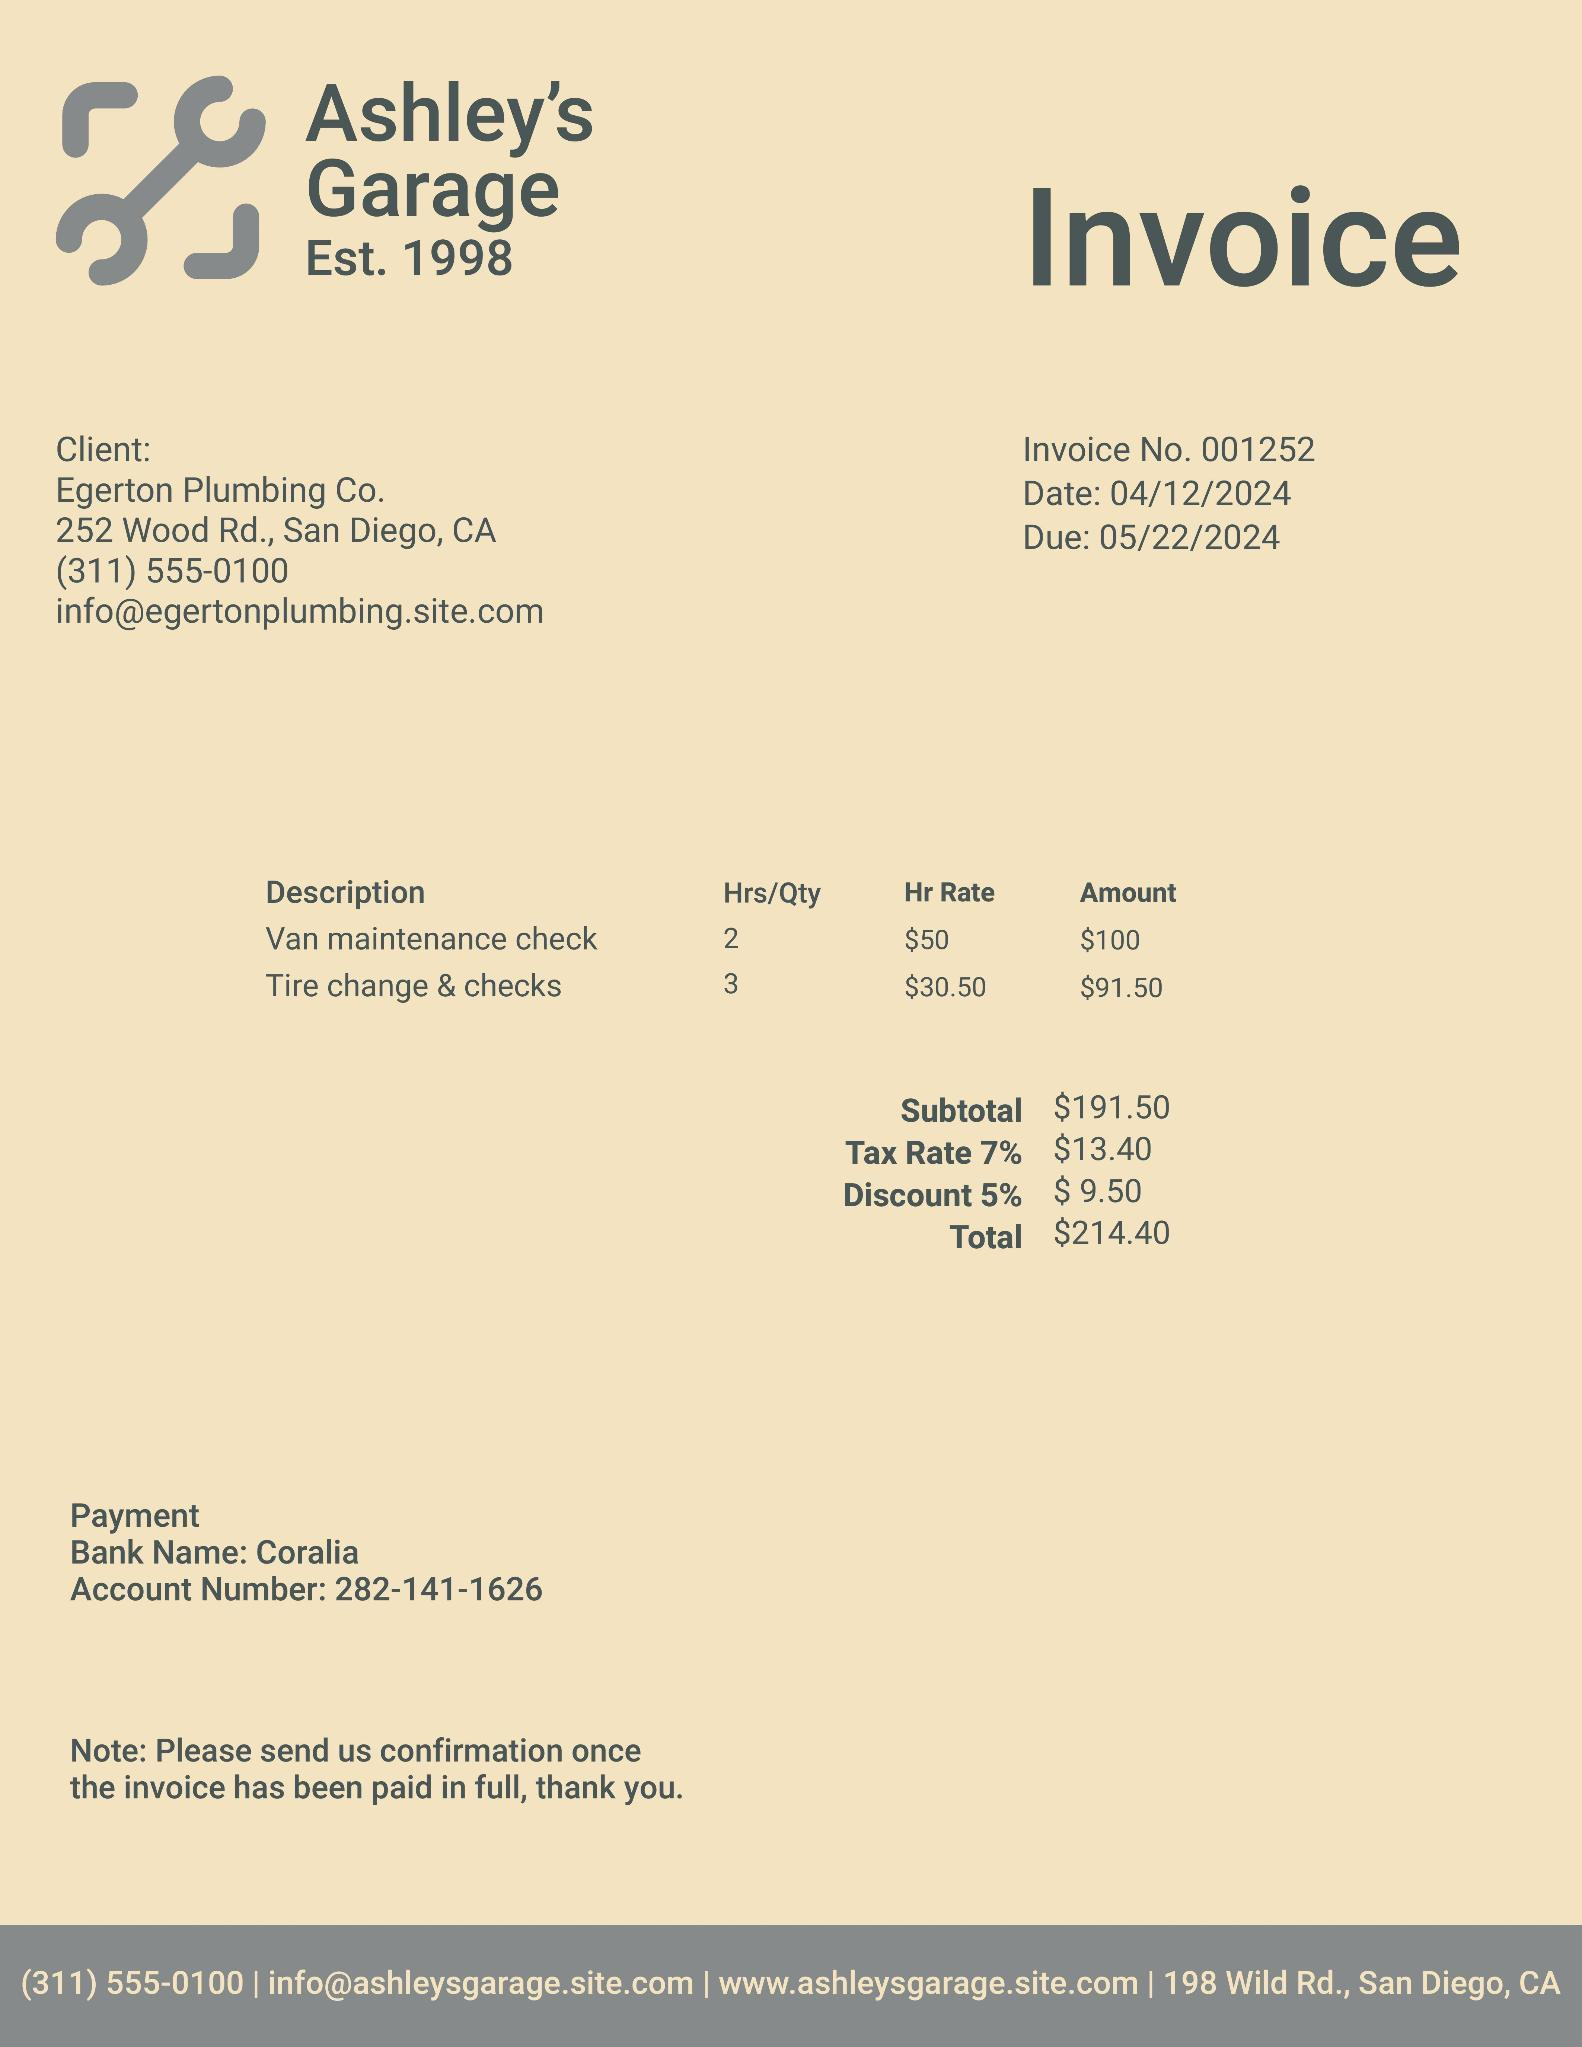ROI: (231, 836, 1220, 1033), (8, 1907, 1570, 2024), (35, 404, 595, 681), (989, 121, 1507, 324), (809, 1075, 1215, 1306), (278, 55, 605, 312), (47, 1474, 568, 1618), (47, 1715, 710, 1823), (1010, 392, 1328, 562)
